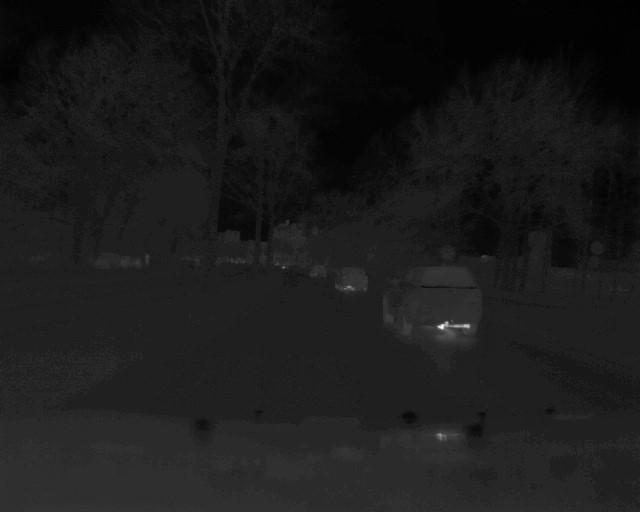car: (375, 269, 484, 336), (333, 268, 368, 294)
